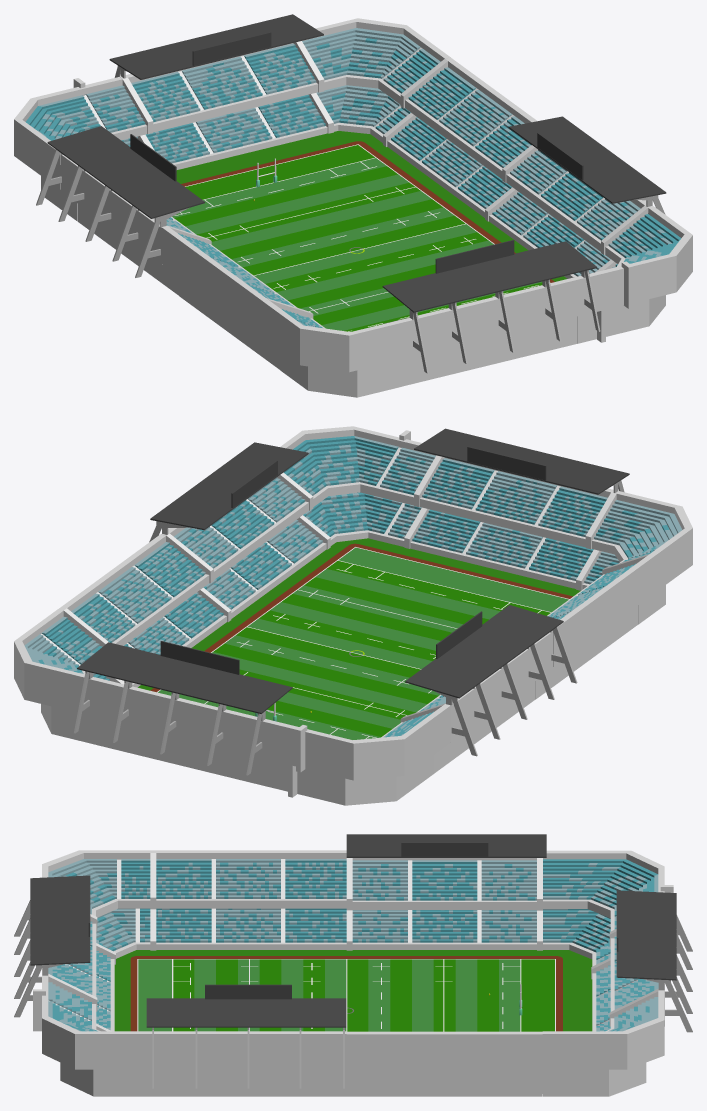
File: StadiumFloor.fbx
3 views of the same model, one above another, from view 1: azimuth 30°, elevation 25°; view 2: azimuth 150°, elevation 25°; view 3: azimuth 270°, elevation 25° (orthographic). The views are drawn at different scales.
Parts seen in each view (by area): view 1: InsideGrass, Building_Stadium.027, Building_Stadium.016, Building_Stadium.030, Building_Stadium.020, Building_Stadium.026, Building_Stadium.029, Building_Stadium.021, Building_Stadium.028, Building_Stadium.017, Building_Stadium.018, OutsideFloor (+11 smaller); view 2: InsideGrass, Building_Stadium.027, Building_Stadium.016, Building_Stadium.020, Building_Stadium.030, Building_Stadium.026, Building_Stadium.017, Building_Stadium.028, Building_Stadium.004, Building_Stadium.018, Building_Stadium.029, OutsideFloor (+11 smaller); view 3: InsideGrass, Building_Stadium.020, Building_Stadium.030, Building_Stadium.014, Building_Stadium.027, Building_Stadium.016, OutsideFloor, Building_Stadium.005, Building_Stadium.025, Building_Stadium.026, Building_Stadium.017, Building_Stadium.028 (+11 smaller).
Part boxes in pixels (bbox=[...]): InsideGrass: bbox=[172, 145, 542, 331]; Building_Stadium.027: bbox=[109, 14, 324, 134]; Building_Stadium.016: bbox=[382, 240, 600, 373]; Building_Stadium.030: bbox=[36, 126, 211, 277]; Building_Stadium.020: bbox=[502, 116, 666, 255]; Building_Stadium.026: bbox=[400, 57, 537, 178]; Building_Stadium.029: bbox=[302, 18, 450, 104]; Building_Stadium.021: bbox=[137, 93, 333, 169]; Building_Stadium.028: bbox=[14, 77, 147, 189]; Building_Stadium.017: bbox=[587, 206, 692, 313]; Building_Stadium.018: bbox=[263, 300, 412, 372]; OutsideFloor: bbox=[176, 131, 566, 282]; InsideGrass: bbox=[158, 547, 568, 739]; Building_Stadium.027: bbox=[74, 641, 292, 775]; Building_Stadium.016: bbox=[414, 428, 629, 549]; Building_Stadium.020: bbox=[149, 442, 313, 583]; Building_Stadium.030: bbox=[400, 605, 577, 756]; Building_Stadium.026: bbox=[59, 534, 209, 646]; Building_Stadium.017: bbox=[280, 426, 436, 506]; Building_Stadium.028: bbox=[264, 704, 450, 780]; Building_Stadium.004: bbox=[404, 507, 601, 590]; Building_Stadium.018: bbox=[592, 491, 692, 591]; Building_Stadium.029: bbox=[14, 609, 102, 714]; OutsideFloor: bbox=[138, 538, 580, 692]; InsideGrass: bbox=[138, 959, 554, 1031]; Building_Stadium.020: bbox=[146, 984, 346, 1088]; Building_Stadium.030: bbox=[346, 834, 546, 910]; Building_Stadium.014: bbox=[150, 850, 346, 909]; Building_Stadium.027: bbox=[609, 890, 692, 1032]; Building_Stadium.016: bbox=[14, 875, 97, 1017]; OutsideFloor: bbox=[114, 950, 592, 1031]; Building_Stadium.005: bbox=[150, 908, 346, 950]; Building_Stadium.025: bbox=[346, 910, 542, 950]; Building_Stadium.026: bbox=[346, 1031, 542, 1069]; Building_Stadium.017: bbox=[33, 976, 150, 1069]; Building_Stadium.028: bbox=[543, 850, 673, 931].
Bounding box in the file's own units: 14131 × 3218 × 19561.
